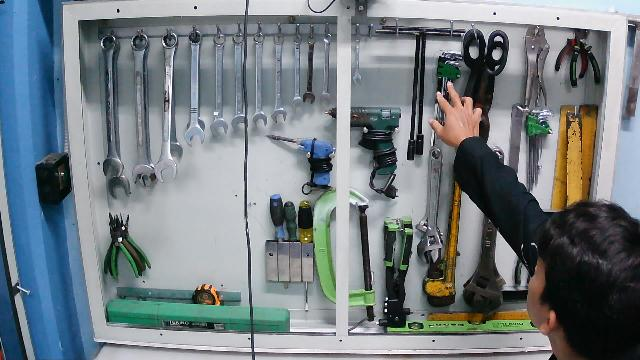kunci_l: (428, 48, 468, 155)
